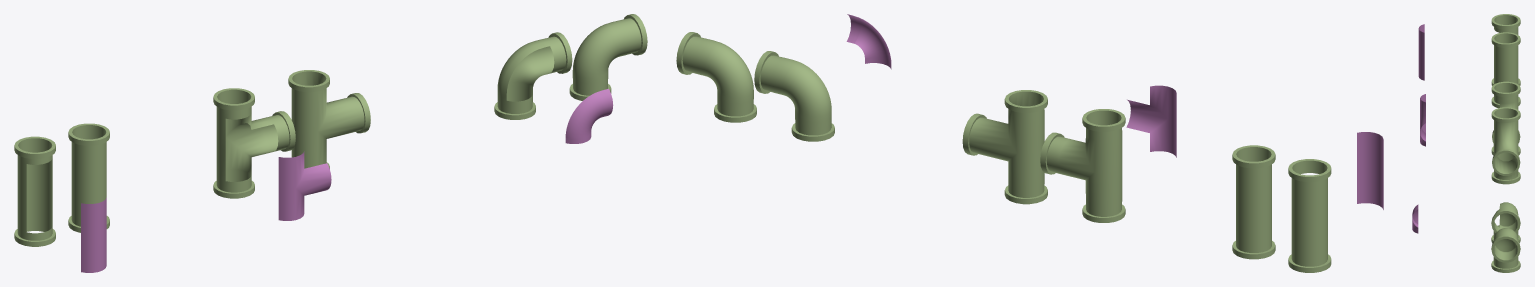
Rendered from tuberias+ventanas.fbx.
3 renders of one model, left to right at view 1: azimuth 30°, elevation 25°; view 2: azimuth 150°, elevation 25°; view 3: azimuth 270°, elevation 25°, orthographic. The views are drawn at different scales.
Parts seen in each view (by area): view 1: sin ventana 2, Object005, sin ventana 1, sin ventana 3, Object021, Object001, Object014, Object016, Object022; view 2: sin ventana 2, Object005, sin ventana 1, Object001, sin ventana 3, Object021, Object014, Object016, Object022; view 3: Object005, Object001, Object021, sin ventana 2, sin ventana 3, sin ventana 1, Object016, Object014, Object022.
Boxes of the visible parts, x1=… form: sin ventana 2: x1=213, y1=88, x2=295, y2=198; Object005: x1=288, y1=70, x2=370, y2=168; sin ventana 1: x1=14, y1=136, x2=55, y2=246; sin ventana 3: x1=494, y1=32, x2=572, y2=119; Object021: x1=569, y1=14, x2=647, y2=100; Object001: x1=68, y1=123, x2=109, y2=232; Object014: x1=278, y1=151, x2=331, y2=220; Object016: x1=81, y1=197, x2=106, y2=272; Object022: x1=565, y1=88, x2=613, y2=143; sin ventana 2: x1=1040, y1=109, x2=1125, y2=222; Object005: x1=962, y1=90, x2=1047, y2=204; sin ventana 1: x1=1288, y1=159, x2=1331, y2=272; Object001: x1=1232, y1=145, x2=1275, y2=259; sin ventana 3: x1=754, y1=51, x2=834, y2=141; Object021: x1=676, y1=32, x2=756, y2=122; Object014: x1=1126, y1=85, x2=1176, y2=157; Object016: x1=1357, y1=132, x2=1383, y2=209; Object022: x1=846, y1=14, x2=891, y2=69; Object005: x1=1491, y1=107, x2=1520, y2=184; Object001: x1=1491, y1=32, x2=1520, y2=107; Object021: x1=1491, y1=228, x2=1520, y2=272; sin ventana 2: x1=1491, y1=81, x2=1520, y2=155; sin ventana 3: x1=1491, y1=202, x2=1520, y2=242; sin ventana 1: x1=1491, y1=14, x2=1520, y2=85; Object016: x1=1418, y1=24, x2=1424, y2=80; Object014: x1=1420, y1=94, x2=1425, y2=146; Object022: x1=1412, y1=204, x2=1418, y2=233.
Size of the model in its own units: 1218 by 175 by 264.
